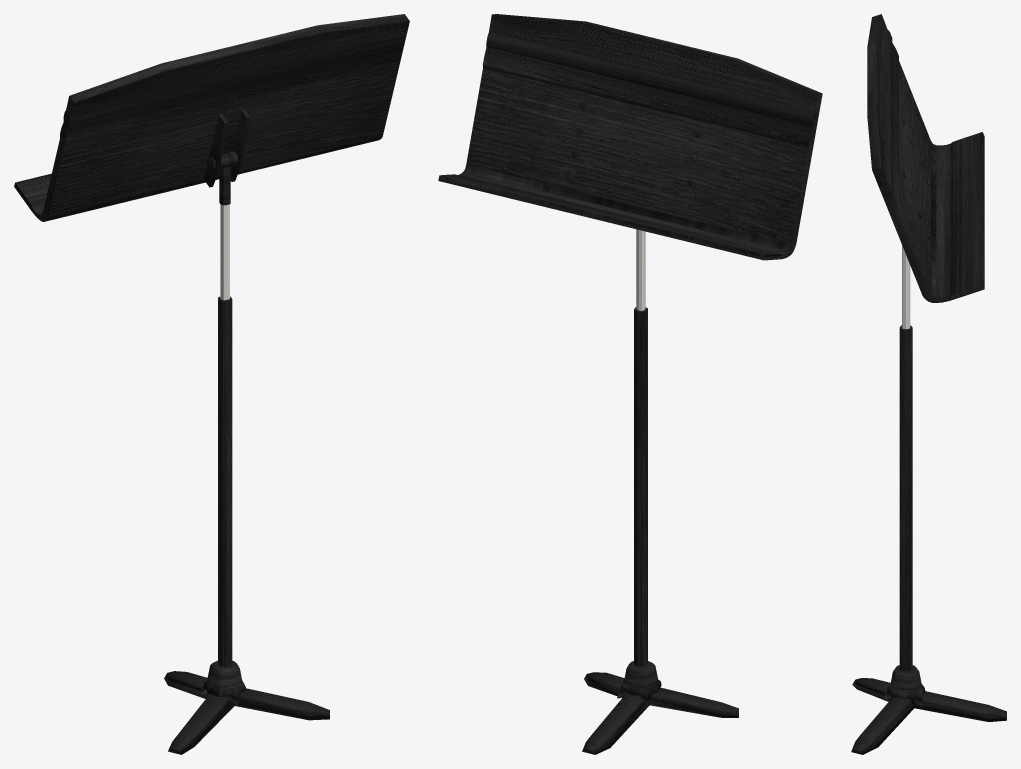
The model's file is music_stand.glb.
3 renders of one model, left to right at view 1: azimuth 30°, elevation 25°; view 2: azimuth 150°, elevation 25°; view 3: azimuth 270°, elevation 25°, orthographic. The views are drawn at different scales.
Parts seen in each view (by area): view 1: Cube.002, Cube, Cube.007, Cube.005, Cube.003, Cube.001, Cube.004; view 2: Cube.002, Cube, Cube.007, Cube.003, Cube.001; view 3: Cube.002, Cube, Cube.007, Cube.003, Cube.001.
Part boxes in pixels (bbox=[...]): Cube.002: bbox=[14, 14, 409, 221]; Cube: bbox=[218, 296, 232, 666]; Cube.007: bbox=[164, 671, 329, 754]; Cube.005: bbox=[203, 109, 250, 187]; Cube.003: bbox=[200, 660, 246, 705]; Cube.001: bbox=[220, 204, 229, 300]; Cube.004: bbox=[207, 151, 243, 205]; Cube.002: bbox=[438, 14, 822, 260]; Cube: bbox=[634, 307, 647, 667]; Cube.007: bbox=[582, 672, 738, 754]; Cube.003: bbox=[617, 661, 661, 705]; Cube.001: bbox=[636, 229, 645, 310]; Cube.002: bbox=[867, 14, 984, 302]; Cube: bbox=[899, 325, 912, 671]; Cube.007: bbox=[851, 678, 1006, 754]; Cube.003: bbox=[883, 665, 925, 706]; Cube.001: bbox=[902, 245, 910, 329].
Bounding box in the file's own units: 36.72 × 71.49 × 15.82.
2 materials, 2 textured.
